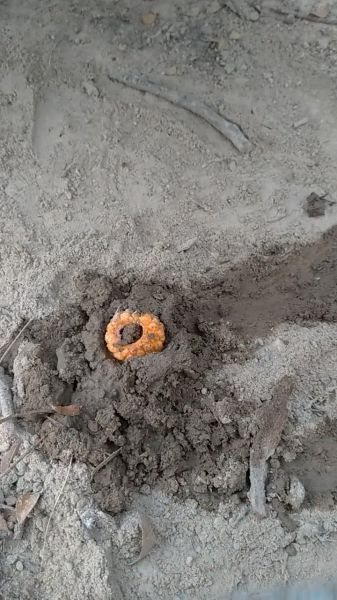eggs: (102, 307, 171, 368)
